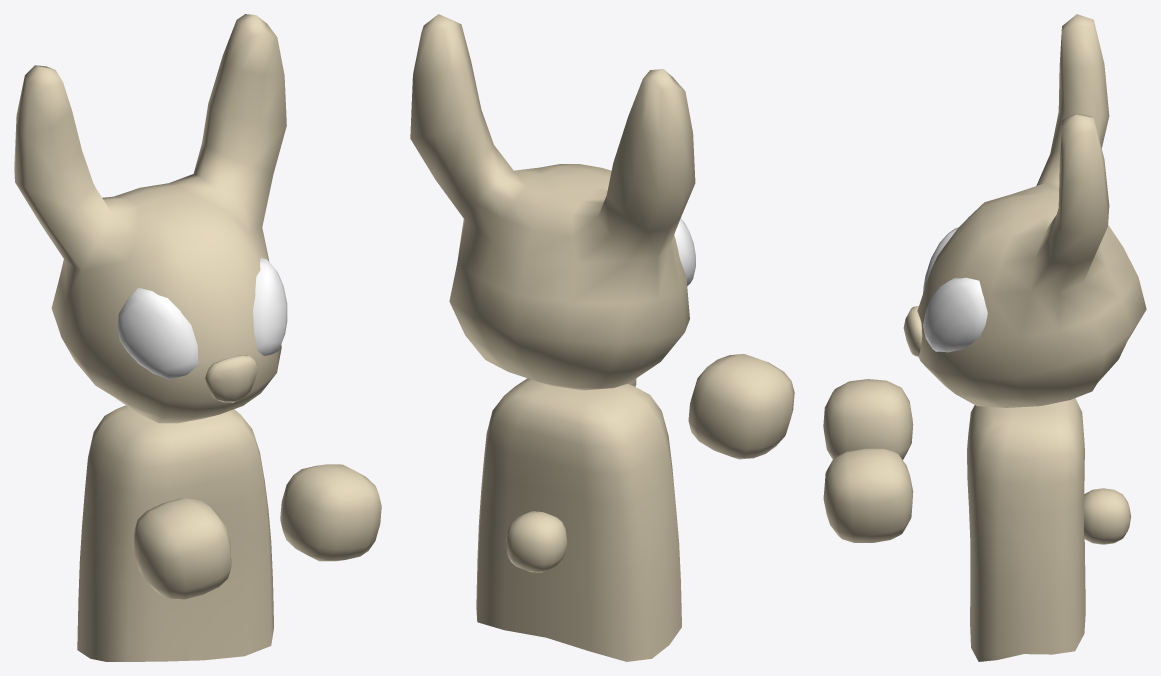
File: Model_Ghost.fbx
The picture shows the model from 3 angles, left to right: view 1: azimuth 30°, elevation 25°; view 2: azimuth 150°, elevation 25°; view 3: azimuth 270°, elevation 25°; orthographic projection. The views are drawn at different scales.
Parts seen in each view (by area): view 1: Ghost; view 2: Ghost; view 3: Ghost.
Boxes of the visible parts, x1,y1,x2,y2 form: Ghost: (14,14,381,661); Ghost: (410,14,794,661); Ghost: (823,14,1146,661).
Bounding box in the file's own units: 82.48 × 177 × 92.22.
